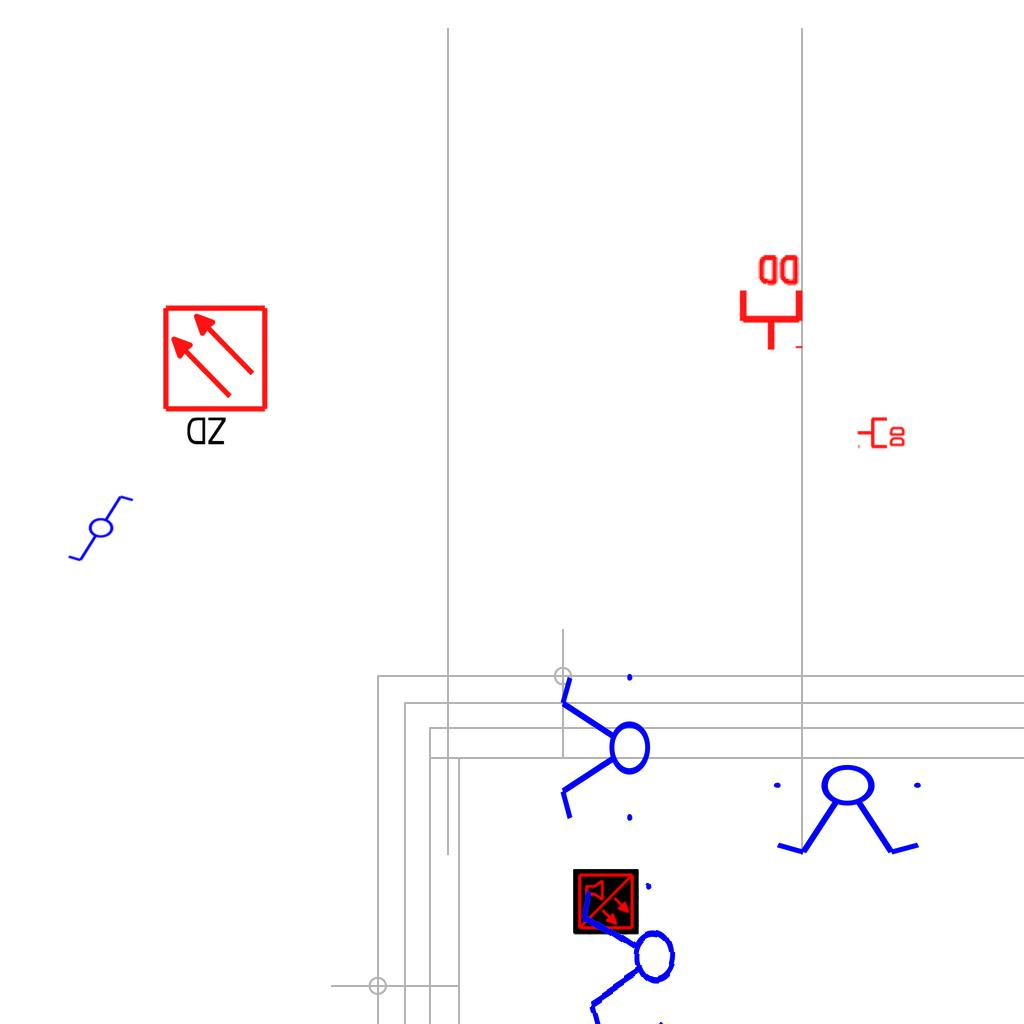Datenanschluss_zweifach: (735, 250, 804, 353), (856, 415, 907, 449)
OKW_Multisensormelder_(Kombination_optischer_Rauch-Kahlenmonoxid_Waerme-Melder): (573, 869, 639, 935)
Serienschalter: (573, 872, 685, 1024), (765, 763, 933, 859), (556, 665, 652, 833)
Wechselschalter: (66, 493, 144, 565)
ZD_Melder_in_Zwischendecke_mit_Revisionsoeffnung_mind_40_x_40_cm: (160, 303, 274, 452)
